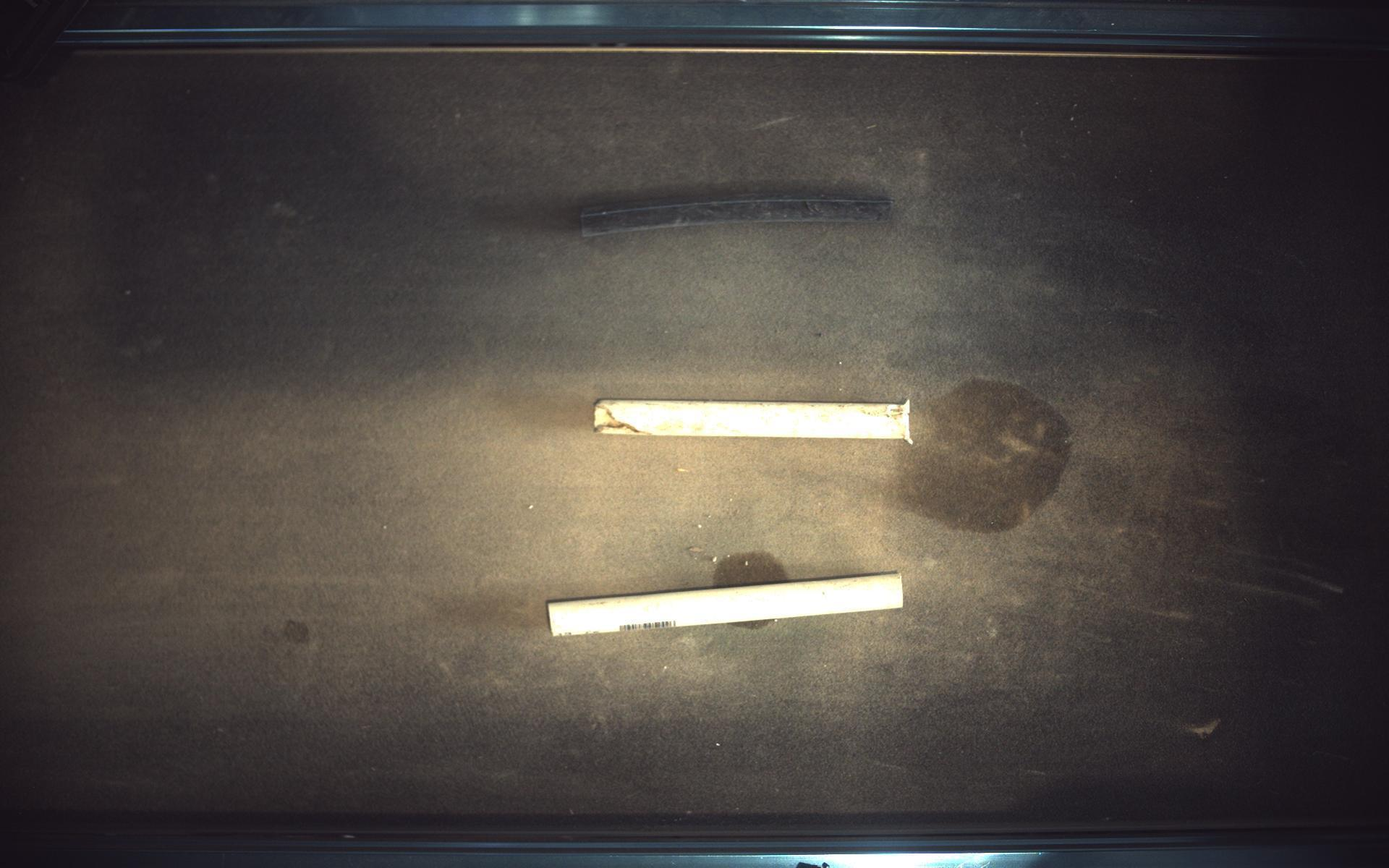pipes: (548, 573, 905, 637), (581, 192, 894, 237), (595, 399, 912, 443)
